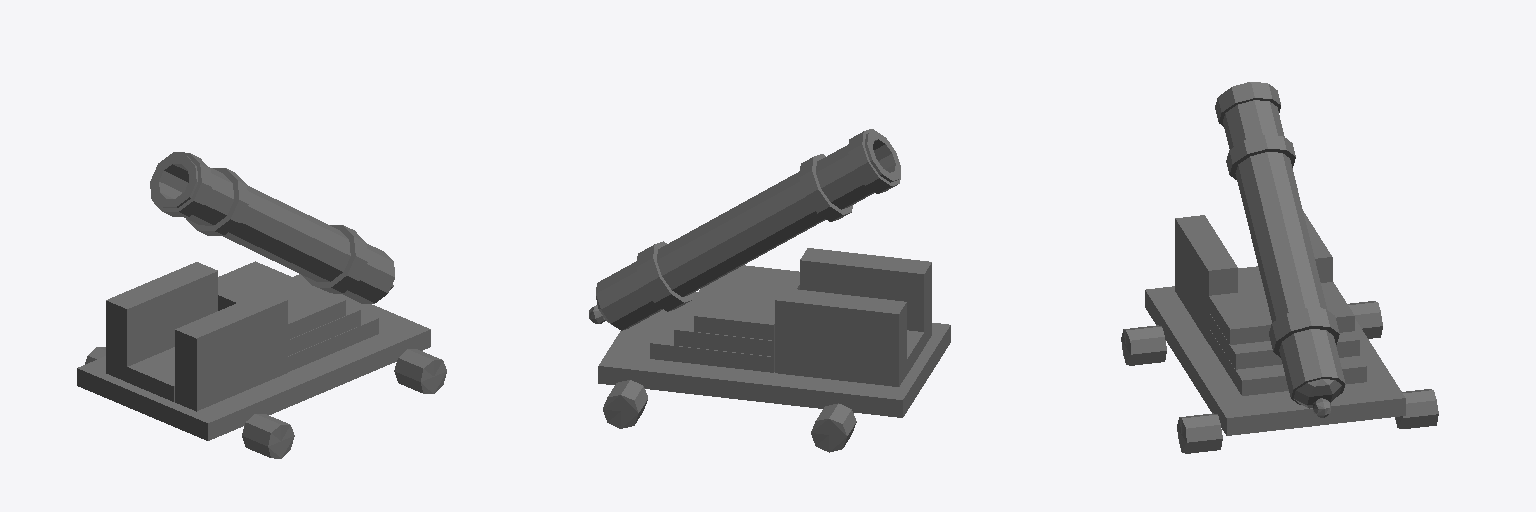
The model's file is boatcannon.obj.
The picture shows the model from 3 angles: view 1: azimuth 30°, elevation 25°; view 2: azimuth 150°, elevation 25°; view 3: azimuth 270°, elevation 25°; orthographic projection.
Parts seen in each view (by area): view 1: pCube119; view 2: pCube119; view 3: pCube119.
Part boxes in pixels (bbox=[...]): pCube119: bbox=[77, 152, 446, 458]; pCube119: bbox=[589, 129, 950, 452]; pCube119: bbox=[1121, 82, 1438, 453].
Size of the model in its own units: 2.14 by 1.74 by 1.88.